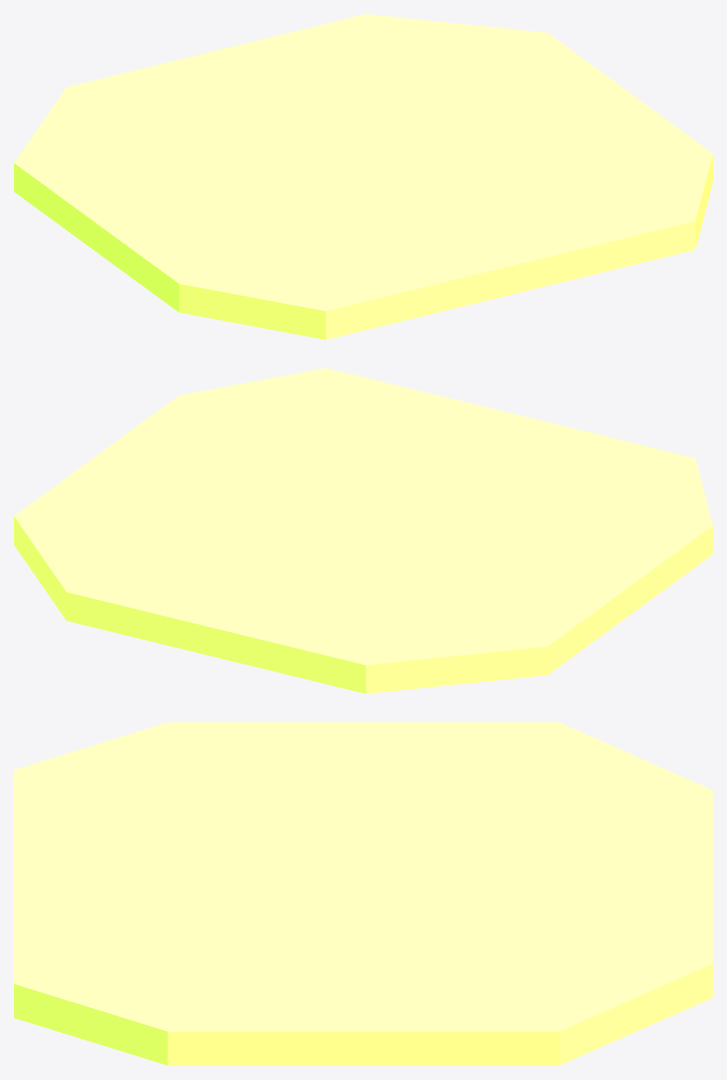
The model's file is platforme.fbx.
The picture shows the model from 3 angles, top to bottom: view 1: azimuth 30°, elevation 25°; view 2: azimuth 150°, elevation 25°; view 3: azimuth 270°, elevation 25°; orthographic projection. The views are drawn at different scales.
Visible parts, largest first — view 1: Cube.011; view 2: Cube.011; view 3: Cube.011.
Boxes of the visible parts, x1,y1,x2,y2 form: Cube.011: (14,14,712,339); Cube.011: (14,368,712,693); Cube.011: (14,722,712,1065).
Bounding box in the file's own units: 161 × 8.29 × 154.
